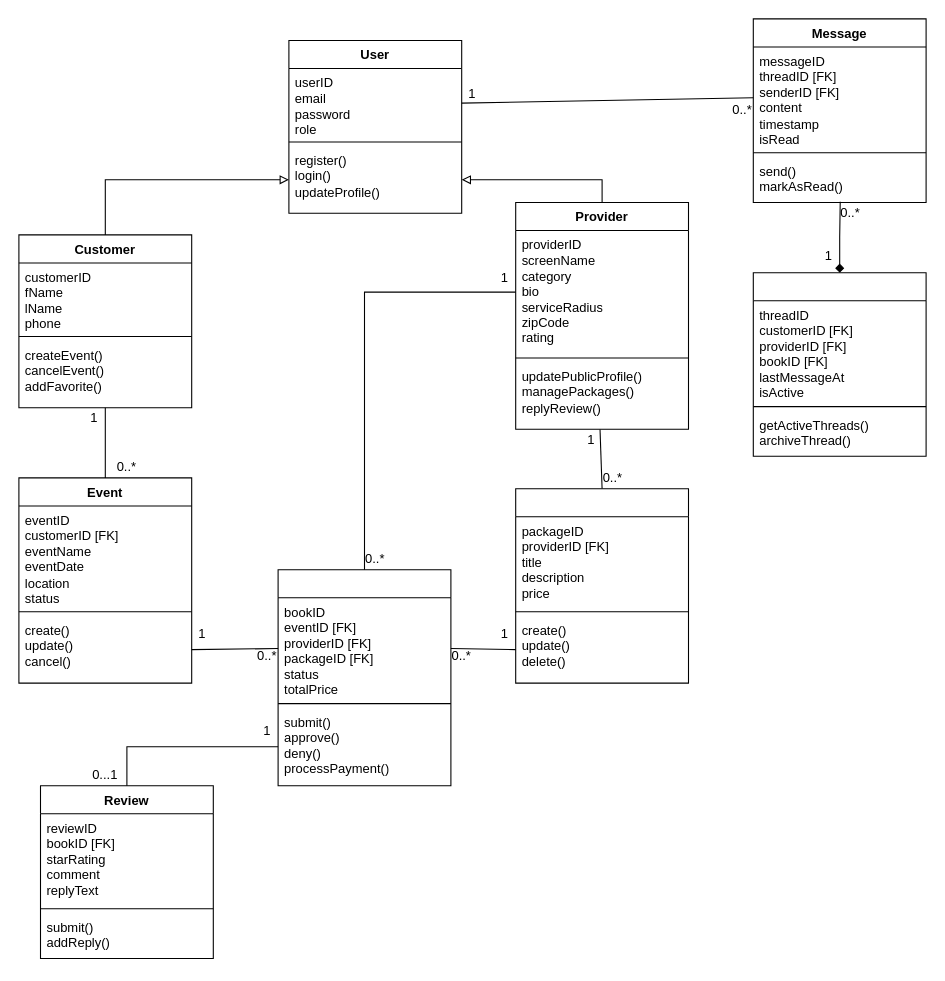
The diagram is 945 pixels wide and 981 high, and some of its shapes have lost their labels. Here are the shapes that lost their labels. From the top down, the box of each, then its label:
(752, 272, 926, 456): Conversation
(515, 488, 688, 683): EventPackage
(277, 569, 451, 786): BookRequest
